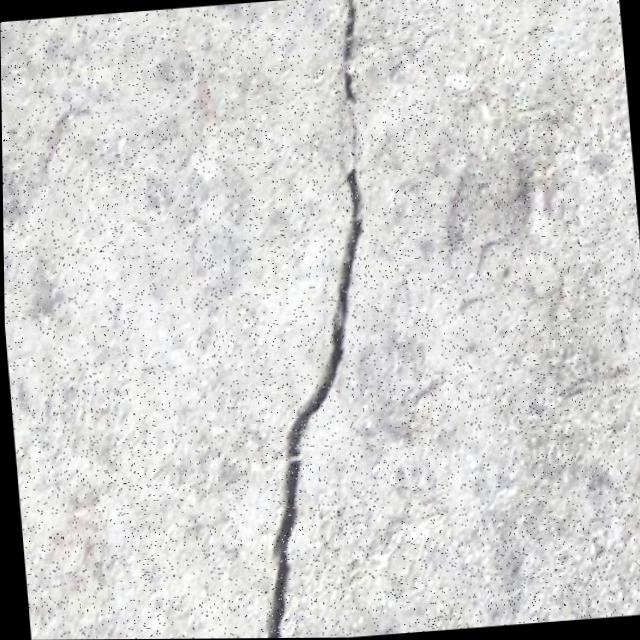Crack: (199, 0, 421, 639)
